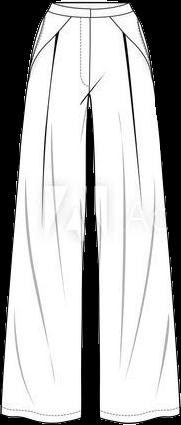Hemline: (0, 408, 84, 423), (99, 410, 180, 424)
Pantleg: (89, 2, 178, 422), (2, 2, 88, 422)
Waistline: (26, 16, 74, 72), (109, 16, 154, 74), (43, 9, 134, 19), (52, 2, 130, 10)
